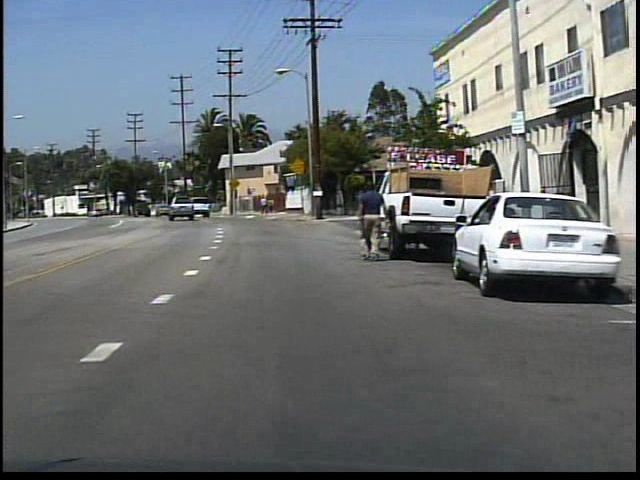person: (351, 181, 393, 264), (258, 194, 268, 217), (267, 196, 277, 215)
